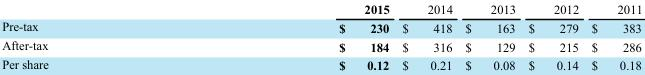table: (1, 1, 641, 72)
table column: (193, 1, 395, 72), (1, 1, 193, 72), (395, 1, 458, 72), (458, 1, 521, 72), (521, 1, 584, 72), (584, 1, 641, 72)
table column header: (1, 1, 641, 17)
table row: (1, 17, 641, 36), (1, 36, 641, 55), (1, 55, 641, 72), (1, 1, 641, 17)
